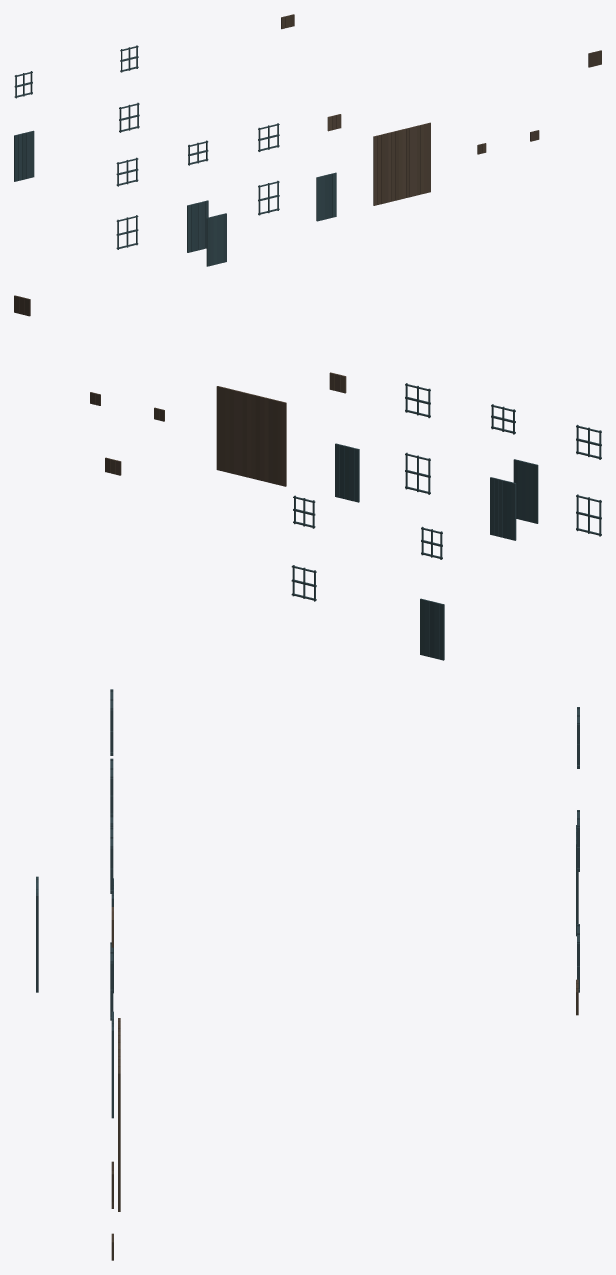
File: SM_Bld_174_Wood.glb
3 renders of one model, top to bottom at view 1: azimuth 30°, elevation 25°; view 2: azimuth 150°, elevation 25°; view 3: azimuth 270°, elevation 25°, orthographic. The views are drawn at different scales.
Visible parts, largest first — view 1: SM_Bld_174_Wood; view 2: SM_Bld_174_Wood; view 3: SM_Bld_174_Wood.
Part boxes in pixels (left/top/right/bottom): SM_Bld_174_Wood: left=14, top=14, right=601, bottom=266; SM_Bld_174_Wood: left=14, top=295, right=601, bottom=660; SM_Bld_174_Wood: left=36, top=689, right=579, bottom=1260.
Size of the model in its own units: 22.03 by 4.67 by 10.7.
